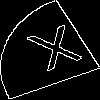X: (25, 24, 92, 80)
